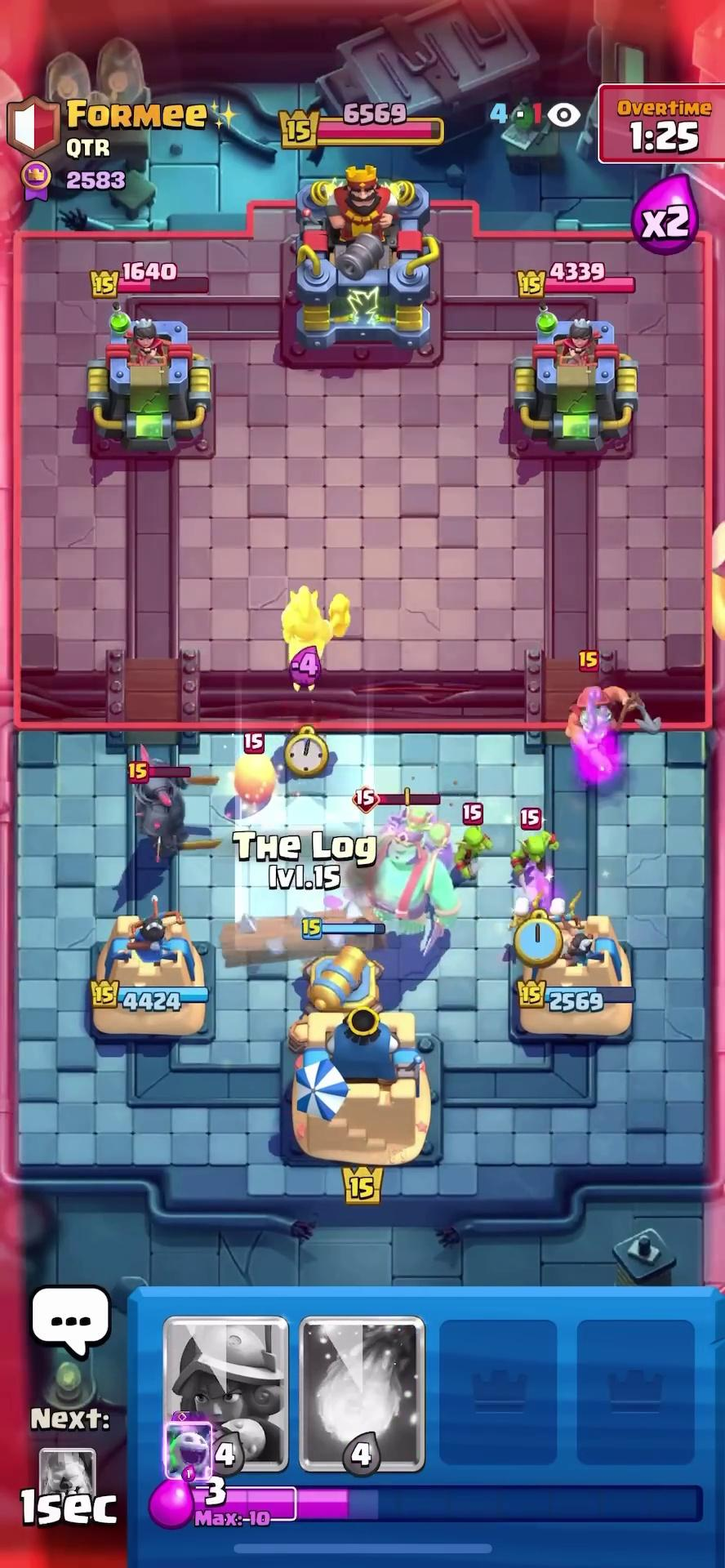cannon: (284, 919, 396, 1027)
hog_rider: (261, 580, 339, 704)
skeletons: (504, 888, 594, 929)
